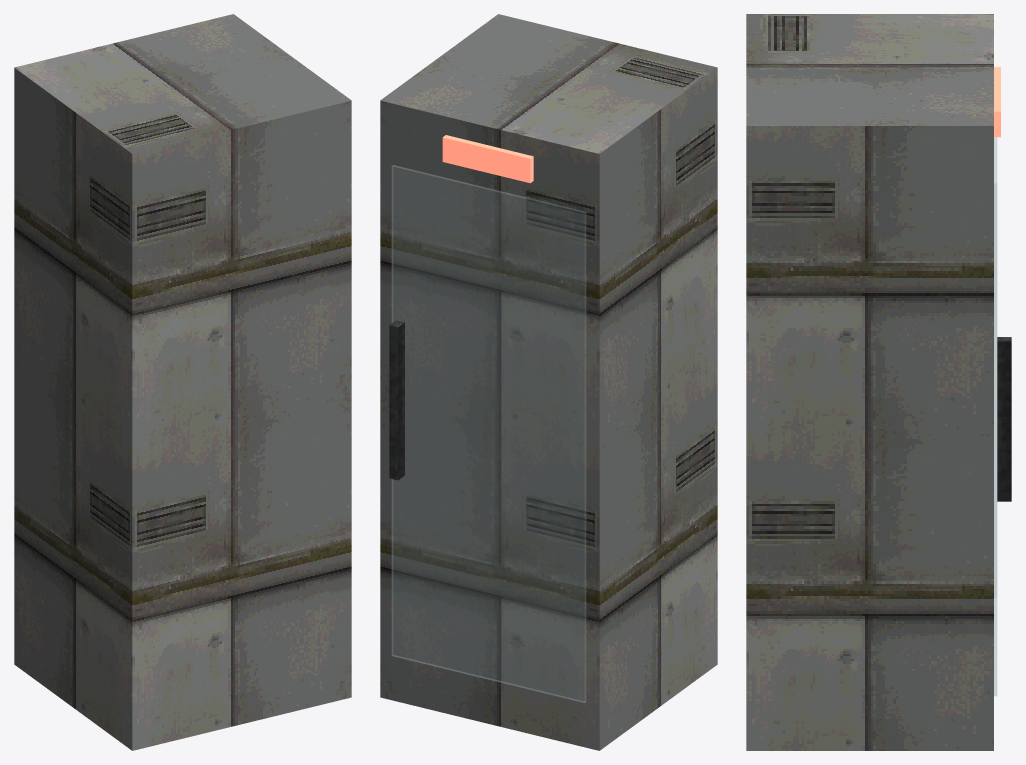
Rendered from specimen_fridge.glb.
The picture shows the model from 3 angles, left to right: view 1: azimuth 30°, elevation 25°; view 2: azimuth 150°, elevation 25°; view 3: azimuth 270°, elevation 25°; orthographic projection. The views are drawn at different scales.
Parts seen in each view (by area): view 1: specimen_fridge; view 2: specimen_fridge; view 3: specimen_fridge.
Boxes of the visible parts, <box> form: specimen_fridge: <box>14,14,351,750</box>; specimen_fridge: <box>380,14,717,750</box>; specimen_fridge: <box>746,14,1011,750</box>.
Size of the model in its own units: 0.75 by 1.95 by 0.75.
8 materials, 2 textured.
